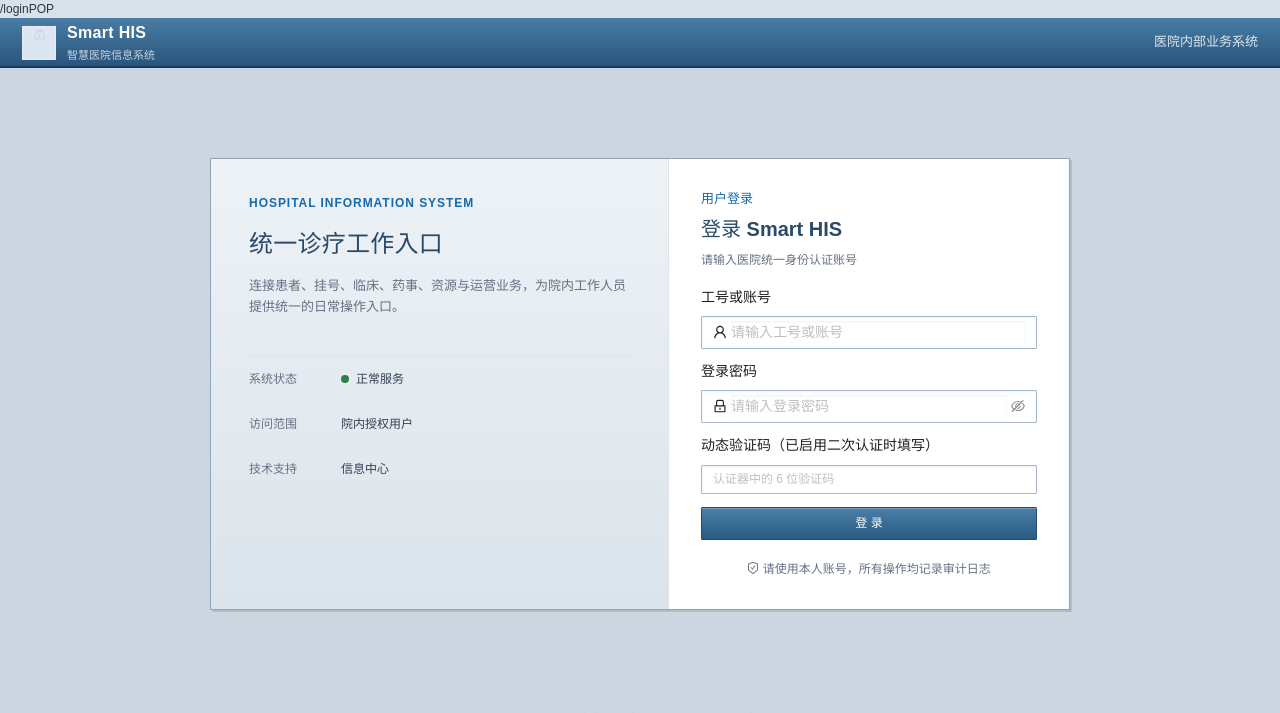
LoginPage › logs in with OTP and a return location and replaces the login route
The image size is (1280, 713).
Type "doctor" into the field labelled "工号或账号" at (878, 332), box top-left (731, 321), bottom-right (1025, 344)
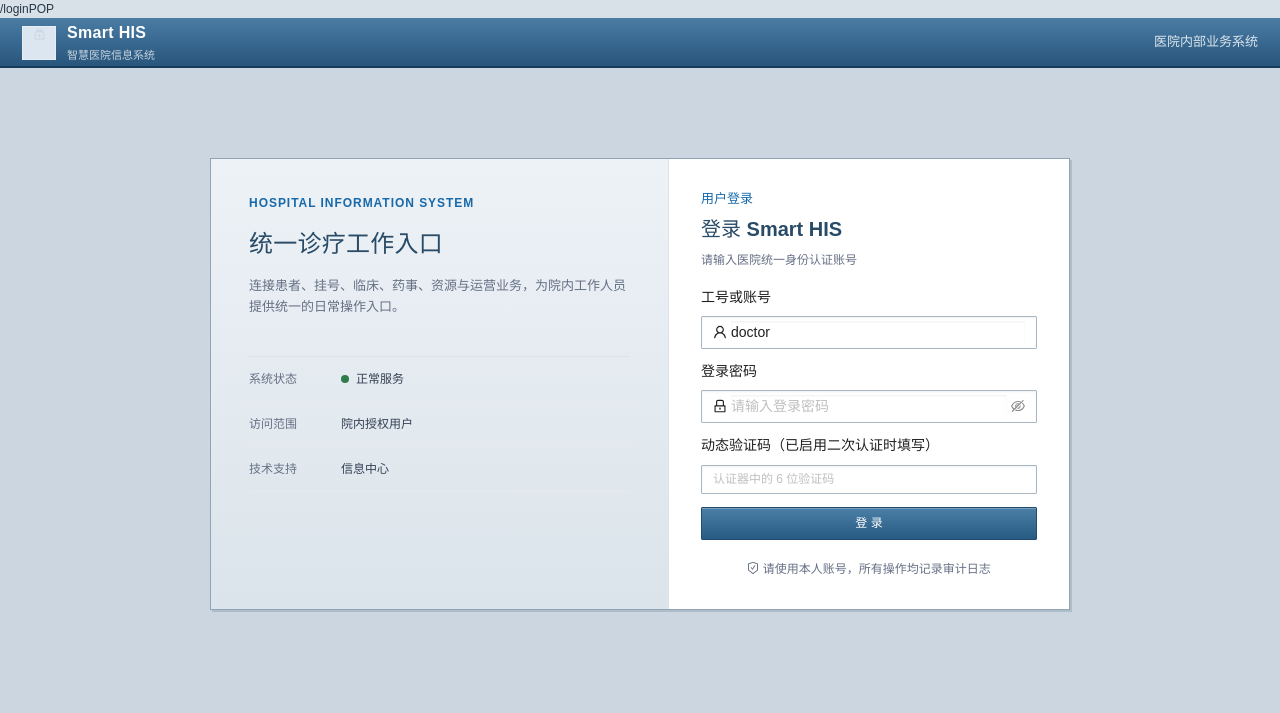
Type "test-password" into the password field labelled "登录密码" at (869, 406), box top-left (731, 395), bottom-right (1007, 418)
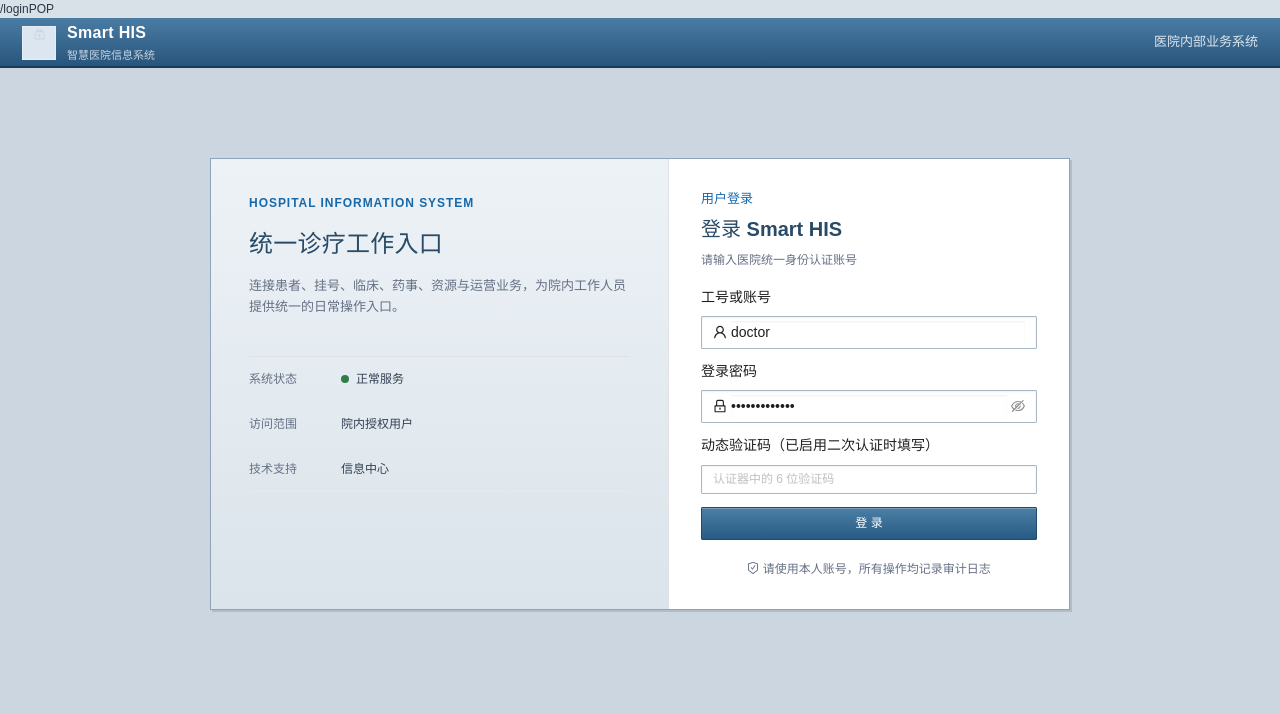
Type "012345" into the field labelled "动态验证码（已启用二次认证时填写）" at (869, 480), box top-left (701, 465), bottom-right (1037, 494)
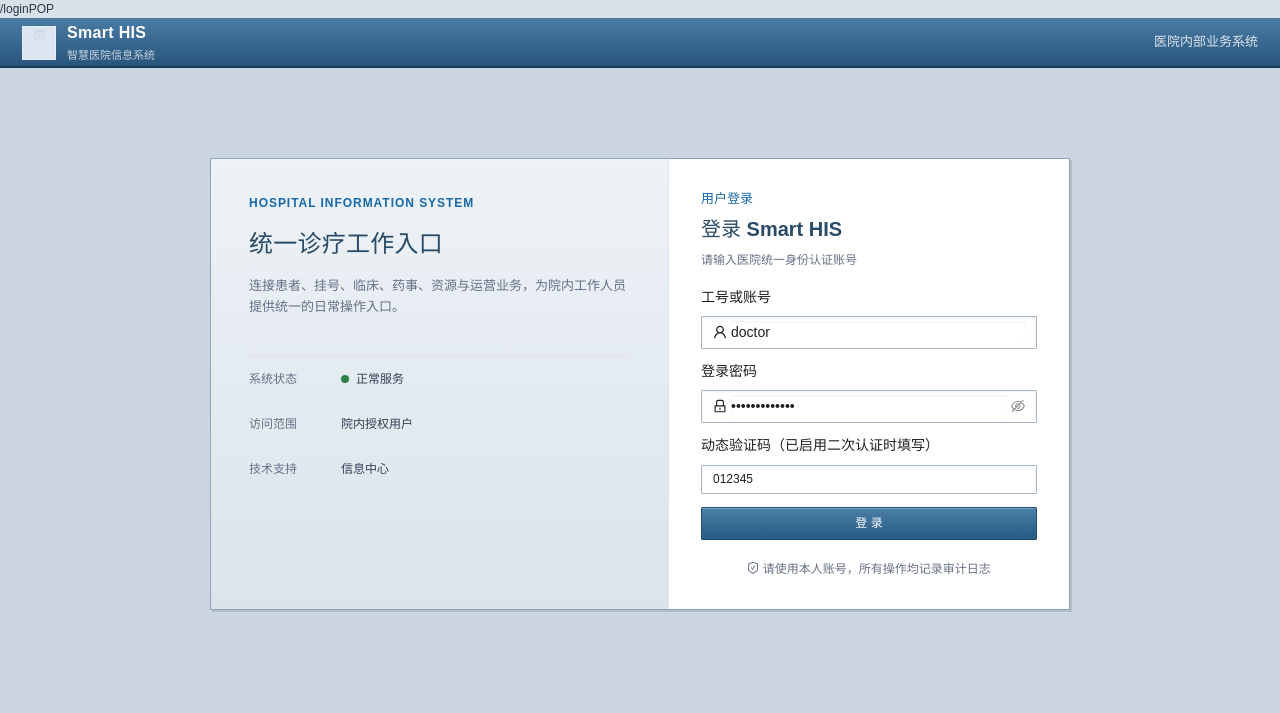
Click the button "登 录" at (869, 523), box top-left (701, 507), bottom-right (1037, 540)
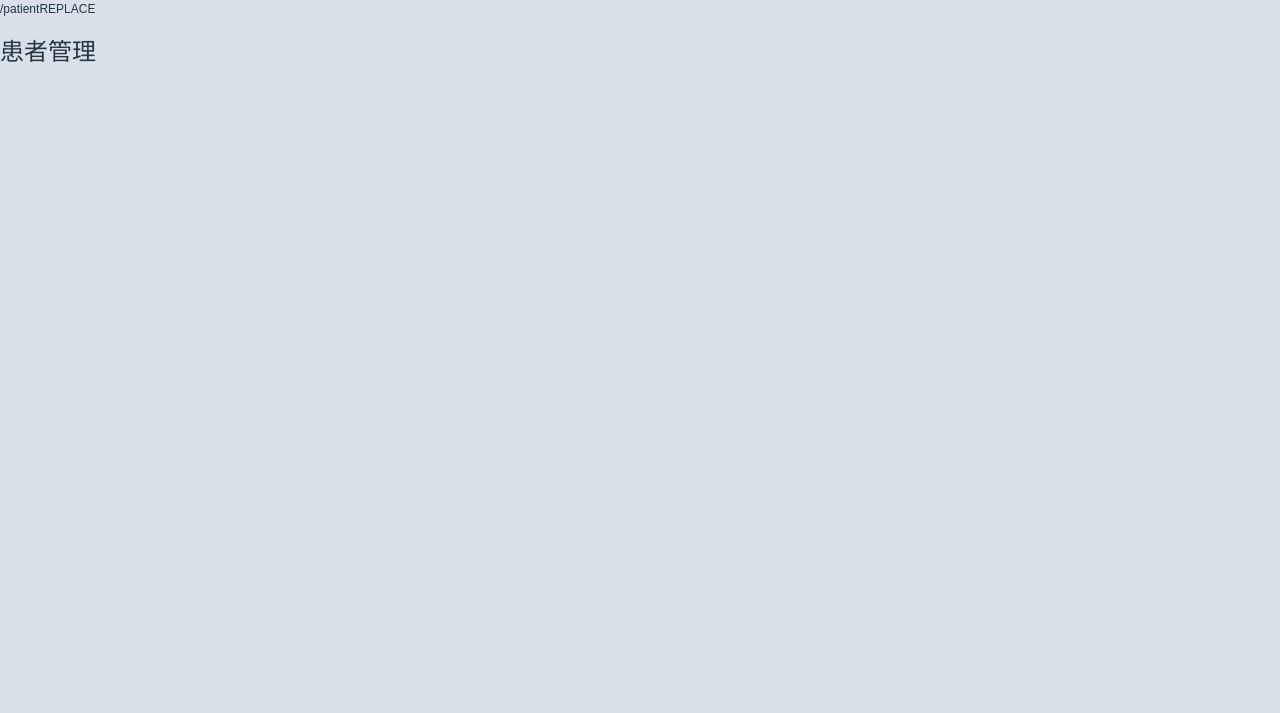
Expected: the heading "患者管理" is shown, top-left (0, 38), bottom-right (96, 65)
Expected: the text named "当前路径" reads "/patient", top-left (0, 2), bottom-right (39, 16)
Expected: the text named "导航方式" reads "REPLACE", top-left (39, 2), bottom-right (95, 16)
